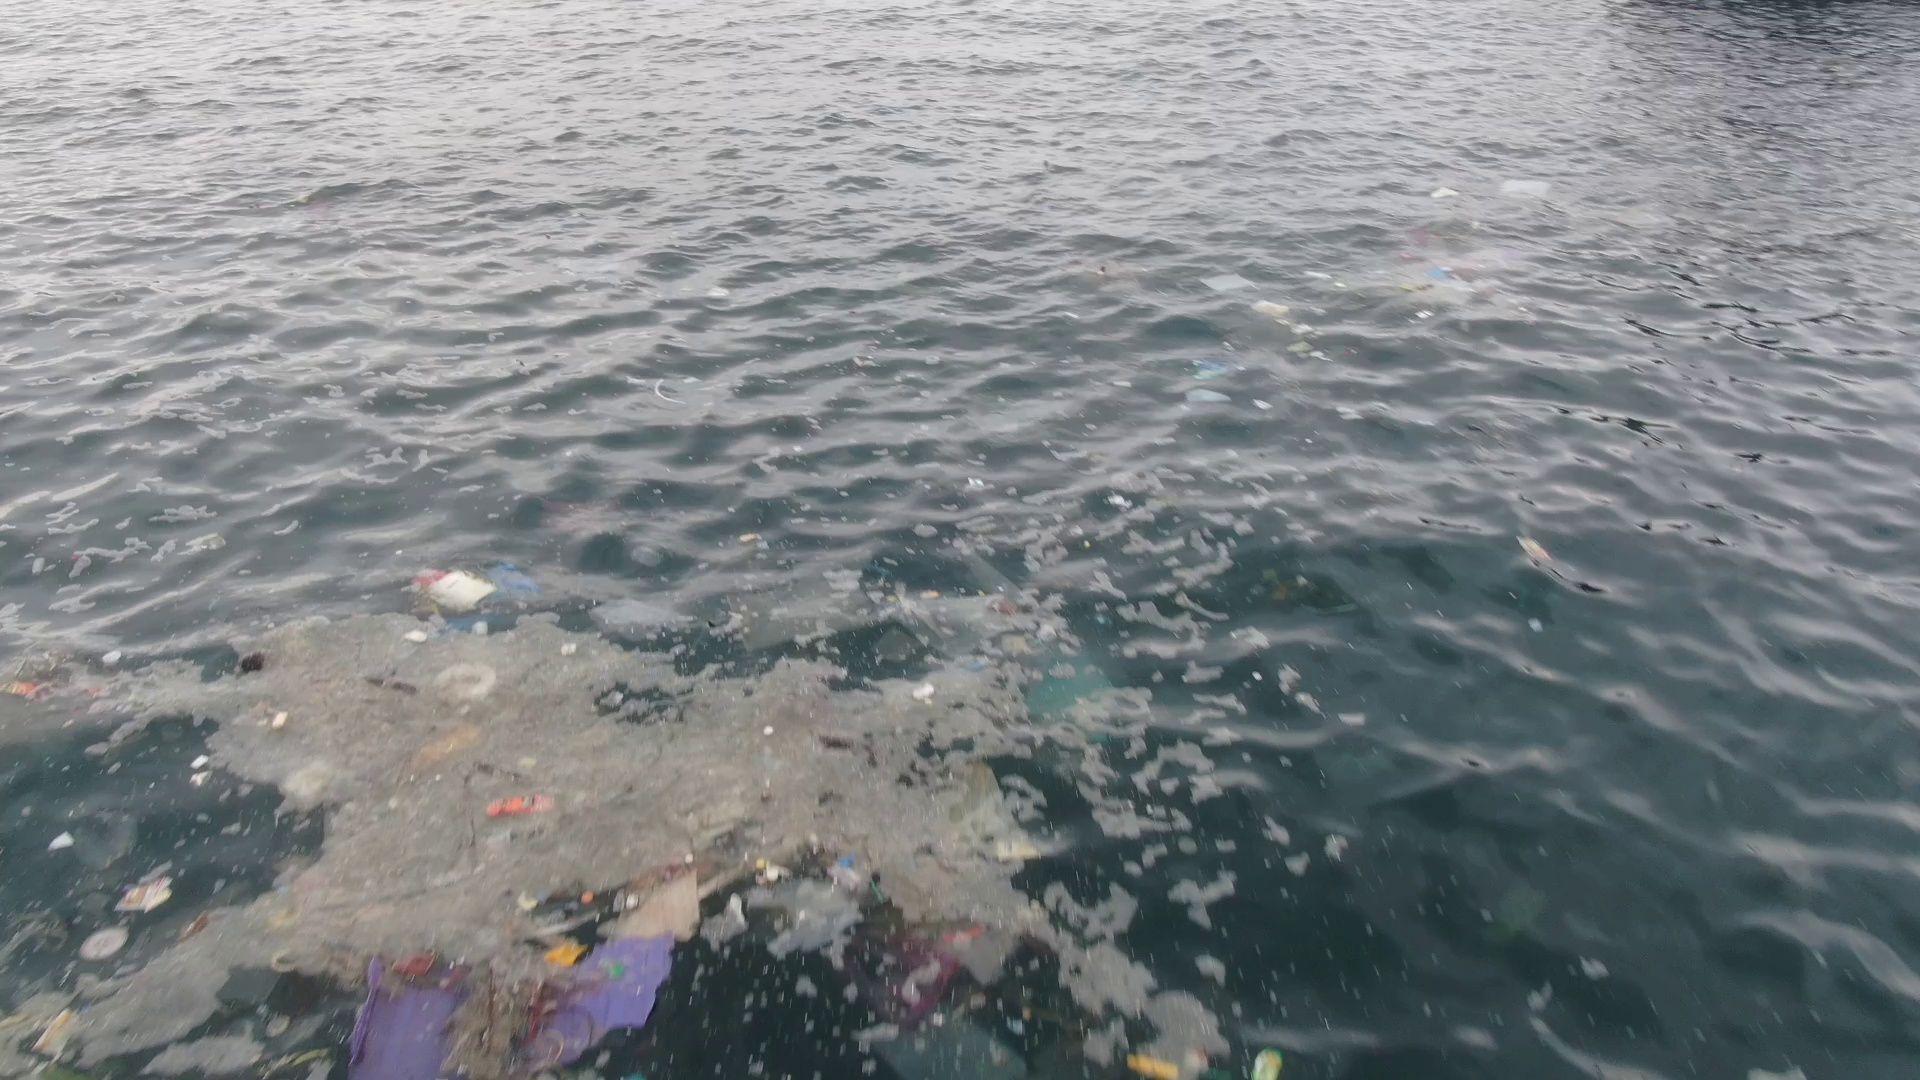garbage: (3, 567, 1294, 1080), (1201, 262, 1378, 364), (1406, 227, 1461, 320), (1515, 533, 1555, 568), (1498, 175, 1551, 194), (1180, 386, 1233, 404), (1429, 183, 1462, 200)
